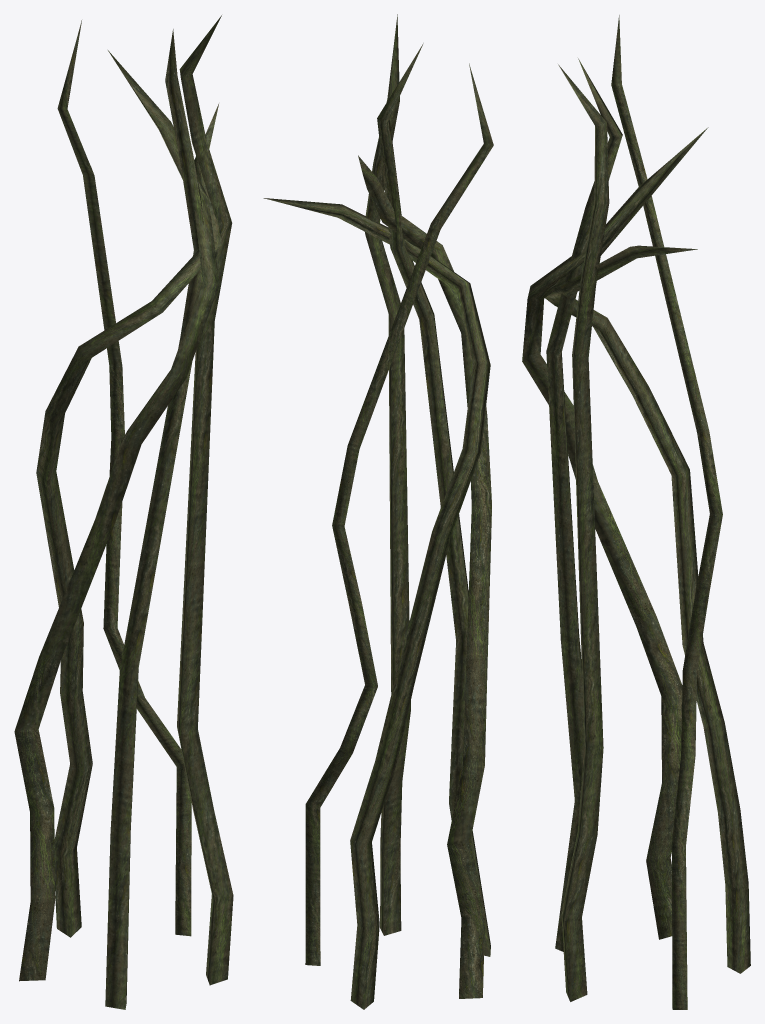
The model's file is Tree_07_1_Liana_L4.fbx.
3 renders of one model, left to right at view 1: azimuth 30°, elevation 25°; view 2: azimuth 150°, elevation 25°; view 3: azimuth 270°, elevation 25°, orthographic. The views are drawn at different scales.
Parts seen in each view (by area): view 1: Liana_Base_L4_Bark2_MatSG; view 2: Liana_Base_L4_Bark2_MatSG; view 3: Liana_Base_L4_Bark2_MatSG.
Boxes of the visible parts, left/top/right/bottom form: Liana_Base_L4_Bark2_MatSG: left=14, top=15, right=233, bottom=1009; Liana_Base_L4_Bark2_MatSG: left=263, top=14, right=493, bottom=1009; Liana_Base_L4_Bark2_MatSG: left=522, top=15, right=750, bottom=1009.
Bounding box in the file's own units: 579 × 2434 × 540.
